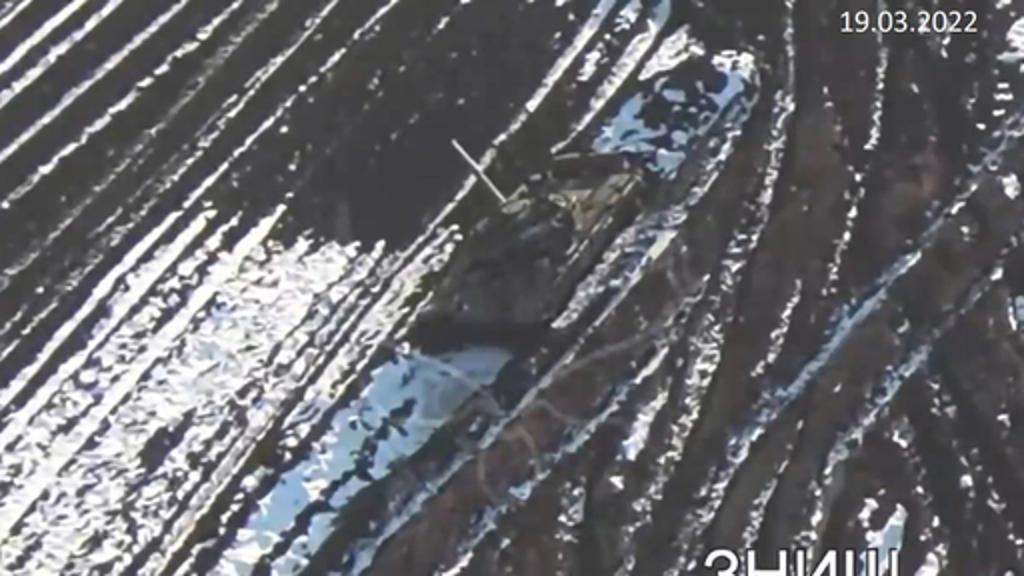TANK: (418, 120, 662, 350)
